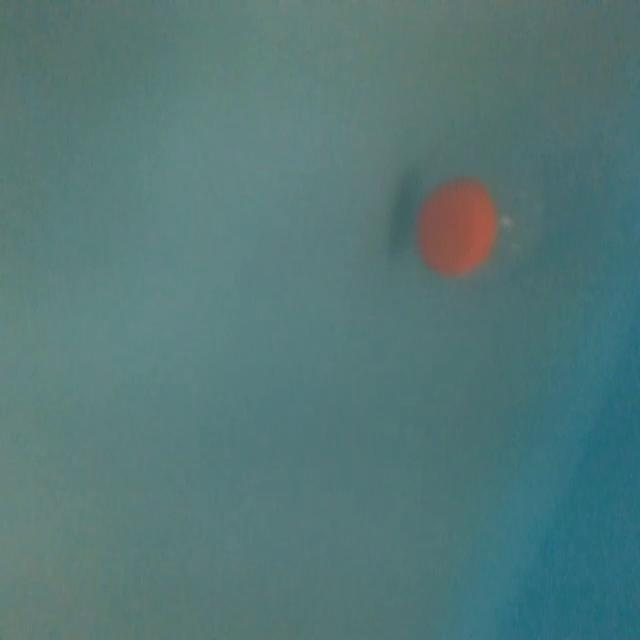plastic bottle: (411, 146, 623, 286)
